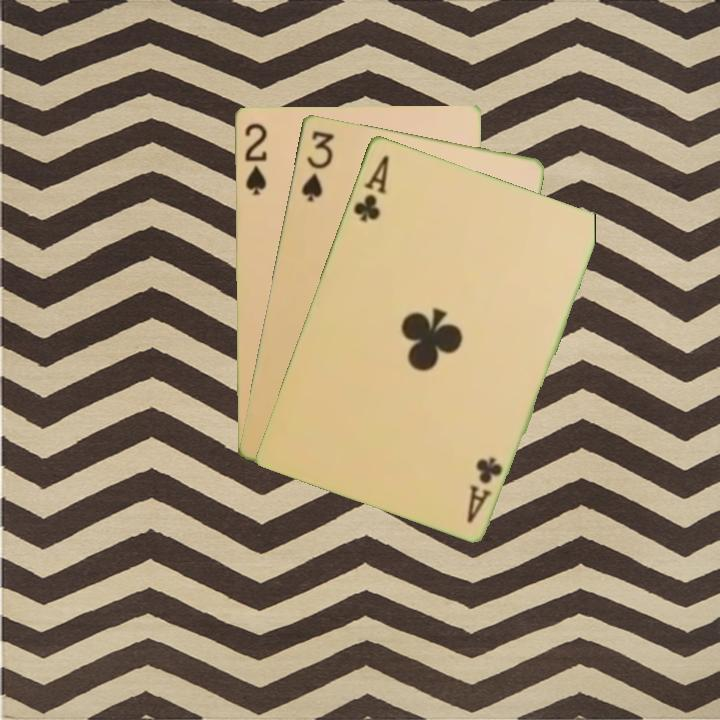2s: (240, 119, 270, 198)
3s: (297, 127, 337, 204)
Ac: (349, 150, 392, 225), (462, 453, 505, 526)
